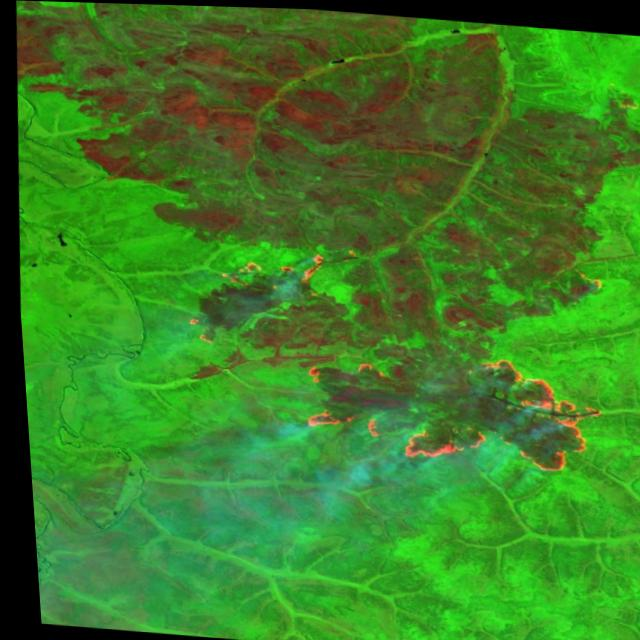fire: (288, 338, 601, 473), (212, 244, 336, 296), (173, 312, 219, 348), (566, 259, 614, 290)
